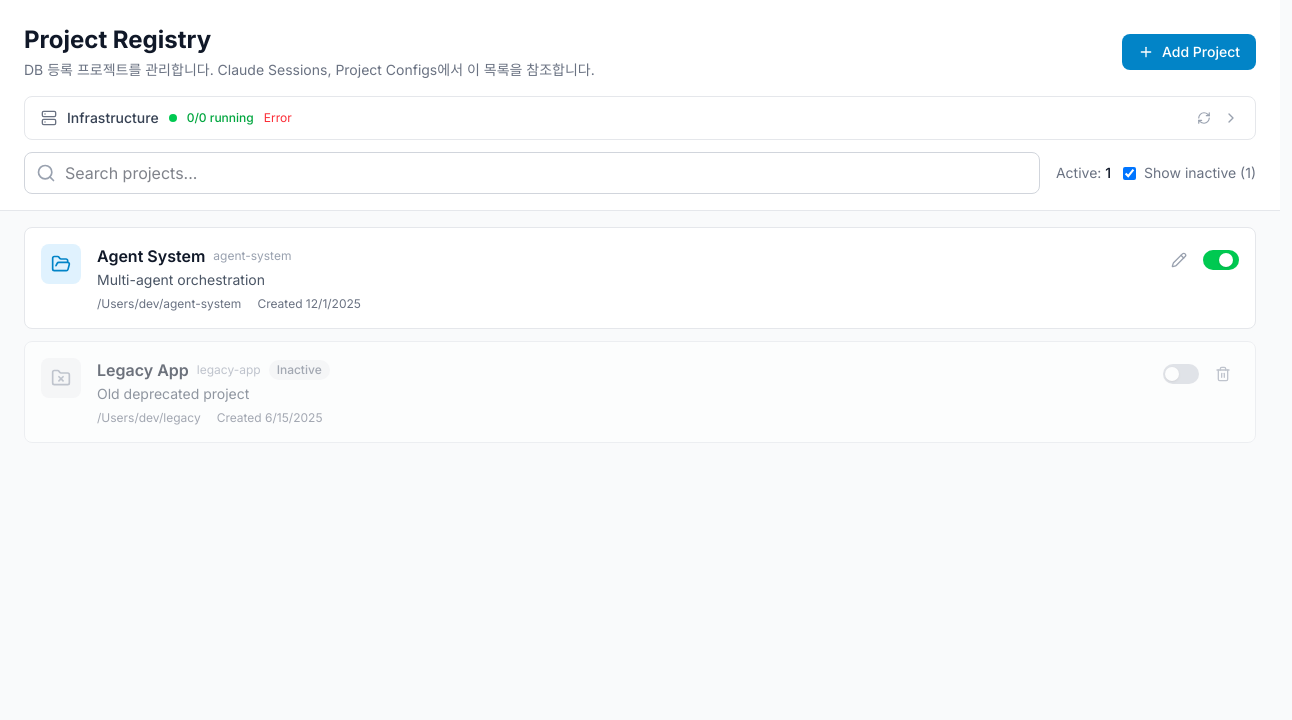
ProjectManagementPage › edit project flow › disables Save when edit name is empty
Click the button titled "Edit" at (1179, 260), box top-left (1163, 244), bottom-right (1195, 276)
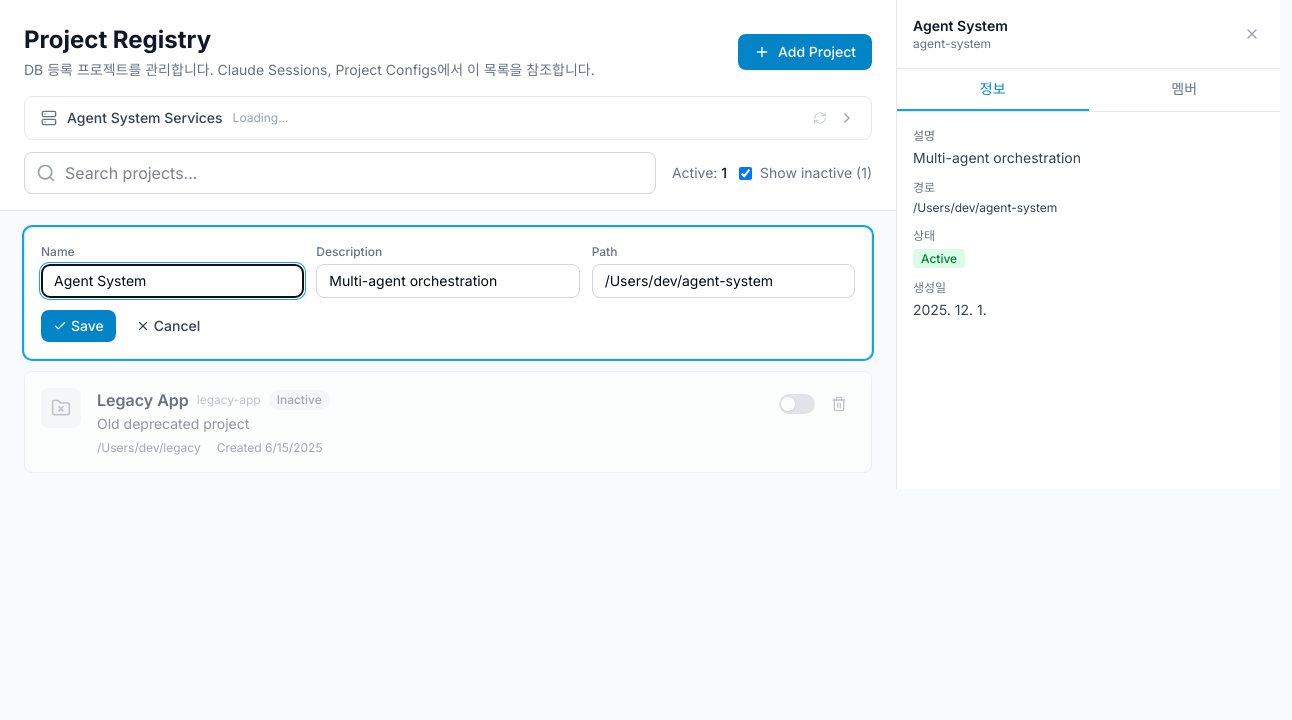
Clear the field showing "Agent System" below "Name" at (173, 281), box top-left (41, 264), bottom-right (304, 298)
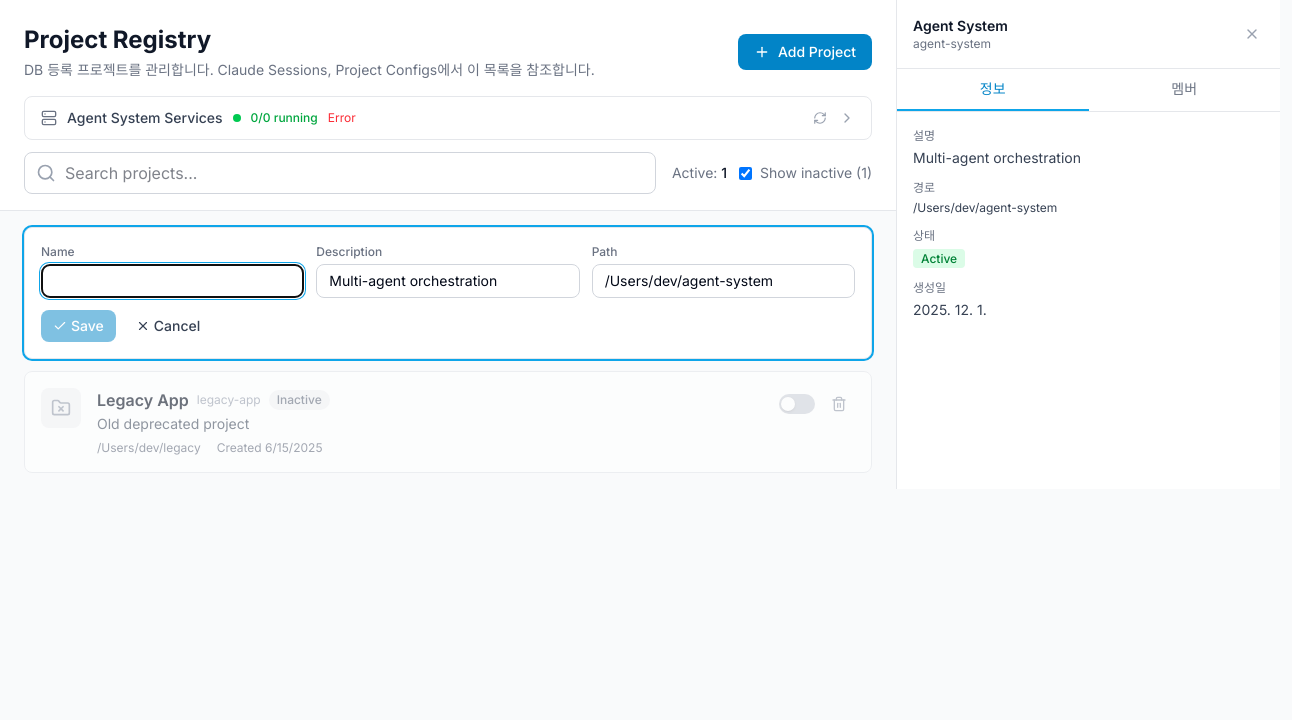
Check: the button "Save" is disabled, box top-left (41, 310), bottom-right (116, 342)
